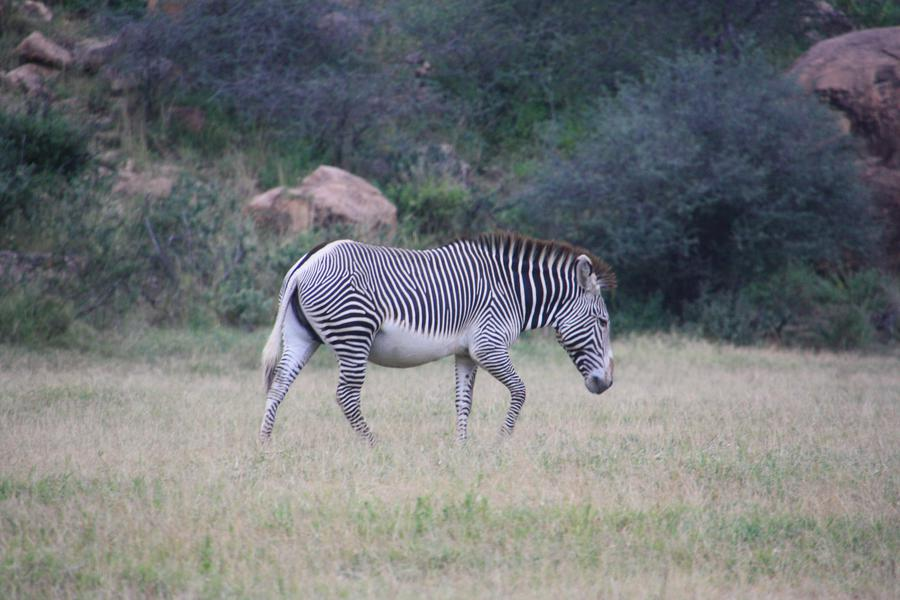zebra_grevys: (296, 232, 512, 345)
